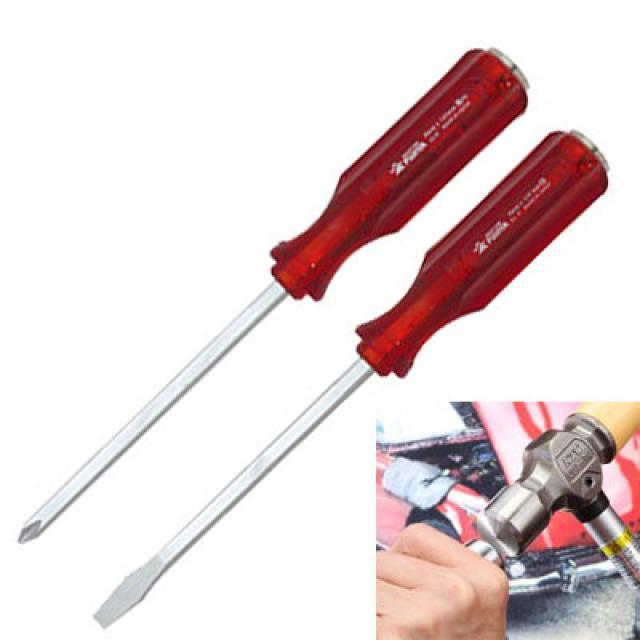screwdriver: (88, 127, 611, 639), (10, 46, 538, 548)
